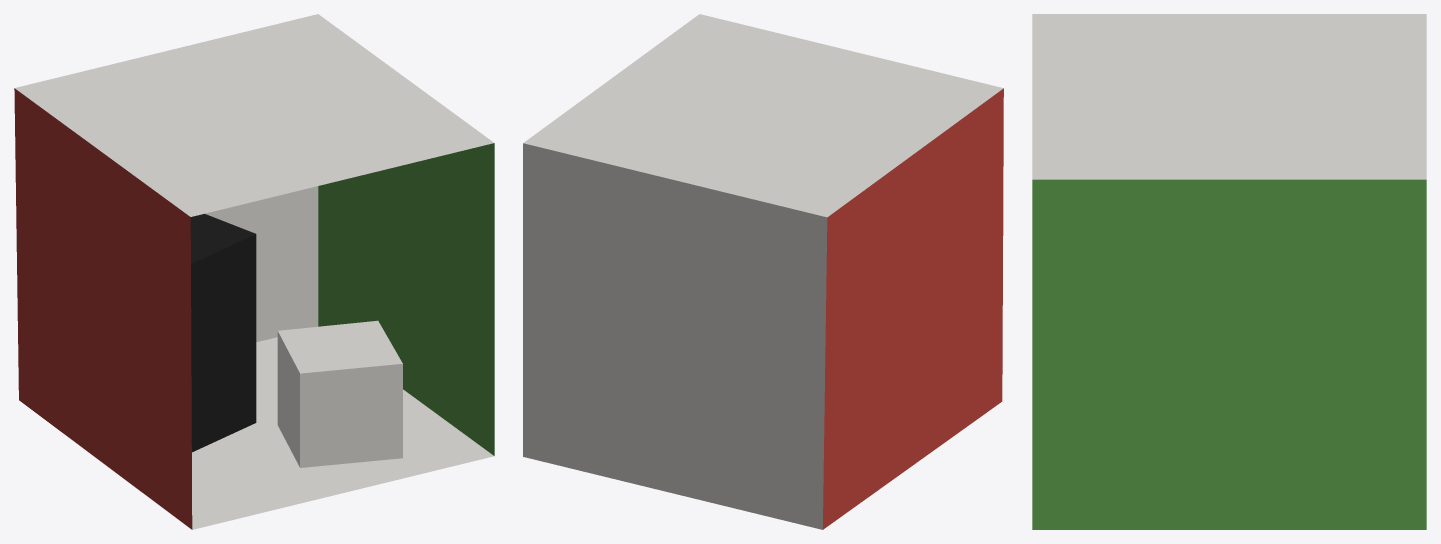
The model's file is simple.gltf.
The picture shows the model from 3 angles, left to right: view 1: azimuth 30°, elevation 25°; view 2: azimuth 150°, elevation 25°; view 3: azimuth 270°, elevation 25°; orthographic projection. The views are drawn at different scales.
Parts seen in each view (by area): view 1: CornellBox-Mirror; view 2: CornellBox-Mirror; view 3: CornellBox-Mirror.
Boxes of the visible parts, x1,y1,x2,y2 form: CornellBox-Mirror: (14,14,494,529); CornellBox-Mirror: (523,14,1003,529); CornellBox-Mirror: (1032,14,1426,529).
Size of the model in its own units: 2.02 by 1.99 by 2.03.
